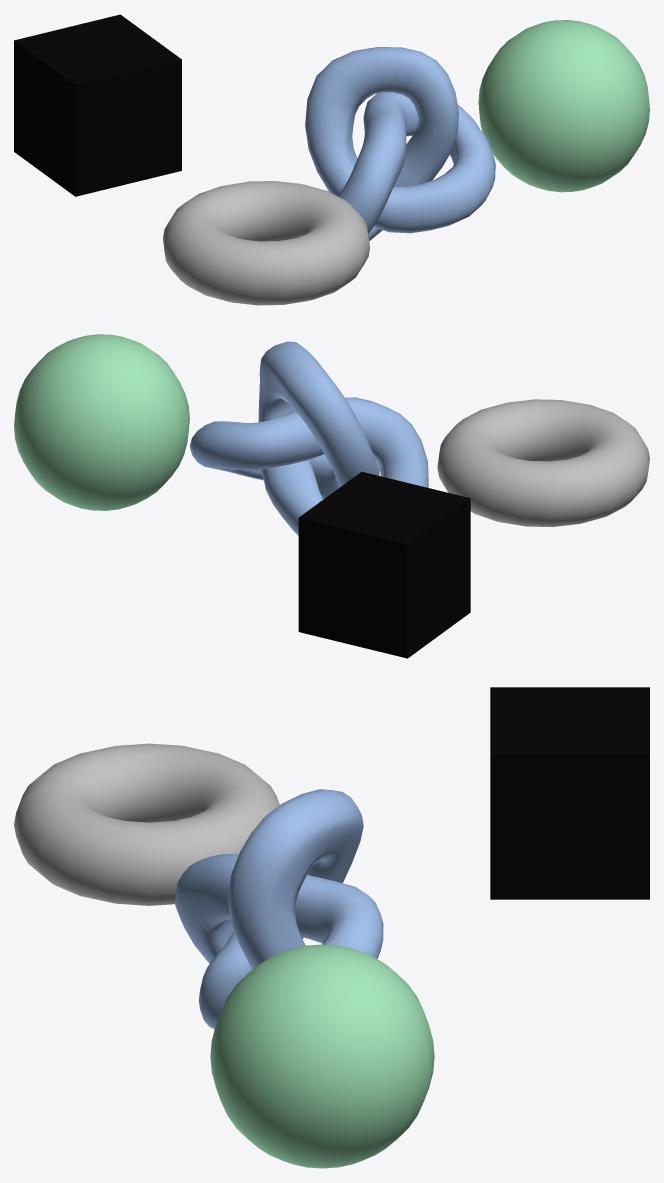
The model's file is standardShader_00.dae.
The picture shows the model from 3 angles, top to bottom: view 1: azimuth 30°, elevation 25°; view 2: azimuth 150°, elevation 25°; view 3: azimuth 270°, elevation 25°; orthographic projection. The views are drawn at different scales.
Visible parts, largest first — view 1: pCube1, pCube2, pSphere1, pTorus1; view 2: pCube2, pSphere1, pTorus1, pCube1; view 3: pSphere1, pCube2, pTorus1, pCube1.
Boxes of the visible parts, x1=… form: pCube1: x1=305, y1=47, x2=495, y2=240; pCube2: x1=14, y1=14, x2=181, y2=196; pSphere1: x1=478, y1=20, x2=649, y2=192; pTorus1: x1=163, y1=181, x2=369, y2=305; pCube2: x1=298, y1=471, x2=470, y2=658; pSphere1: x1=14, y1=334, x2=189, y2=510; pTorus1: x1=437, y1=399, x2=649, y2=526; pCube1: x1=189, y1=341, x2=428, y2=535; pSphere1: x1=210, y1=944, x2=434, y2=1168; pCube2: x1=490, y1=687, x2=649, y2=899; pTorus1: x1=14, y1=743, x2=279, y2=905; pCube1: x1=175, y1=789, x2=383, y2=1029.
Size of the model in its own units: 17 by 5.94 by 13.62.
